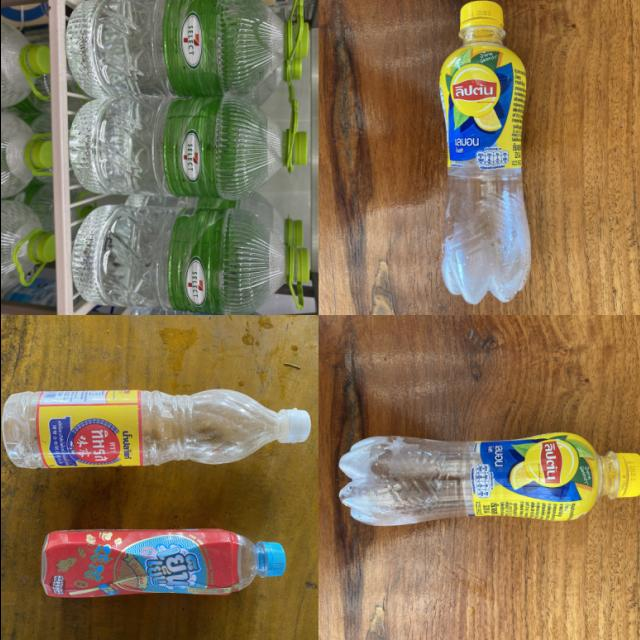plastik: (338, 433, 640, 526), (440, 1, 529, 303), (71, 205, 308, 315), (68, 97, 307, 199), (66, 0, 308, 98), (2, 390, 310, 467), (40, 530, 285, 598), (0, 200, 54, 289), (0, 112, 51, 197), (0, 22, 49, 107)
